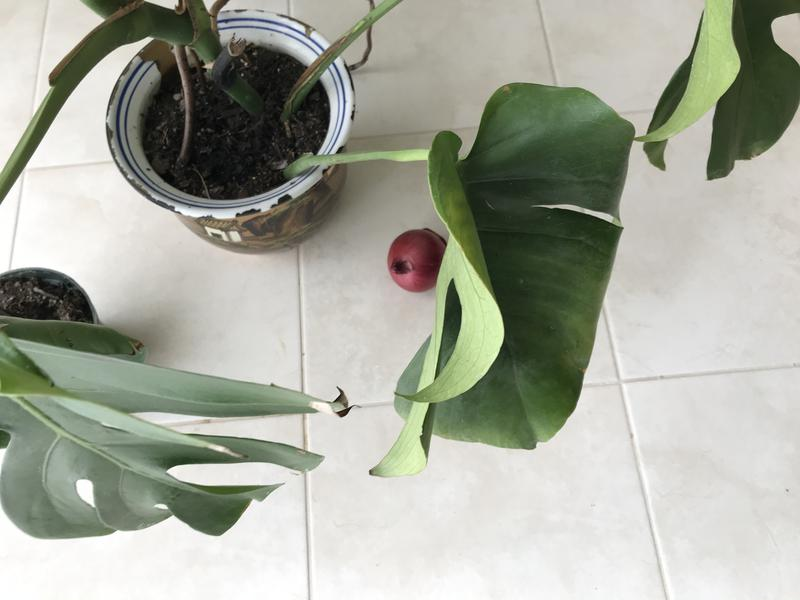purple_onion: (381, 220, 454, 300)
